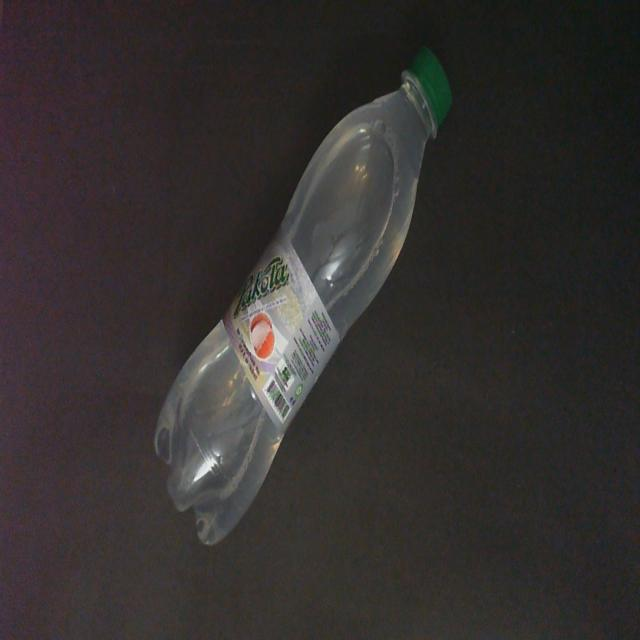non-defect: (152, 41, 455, 551)
